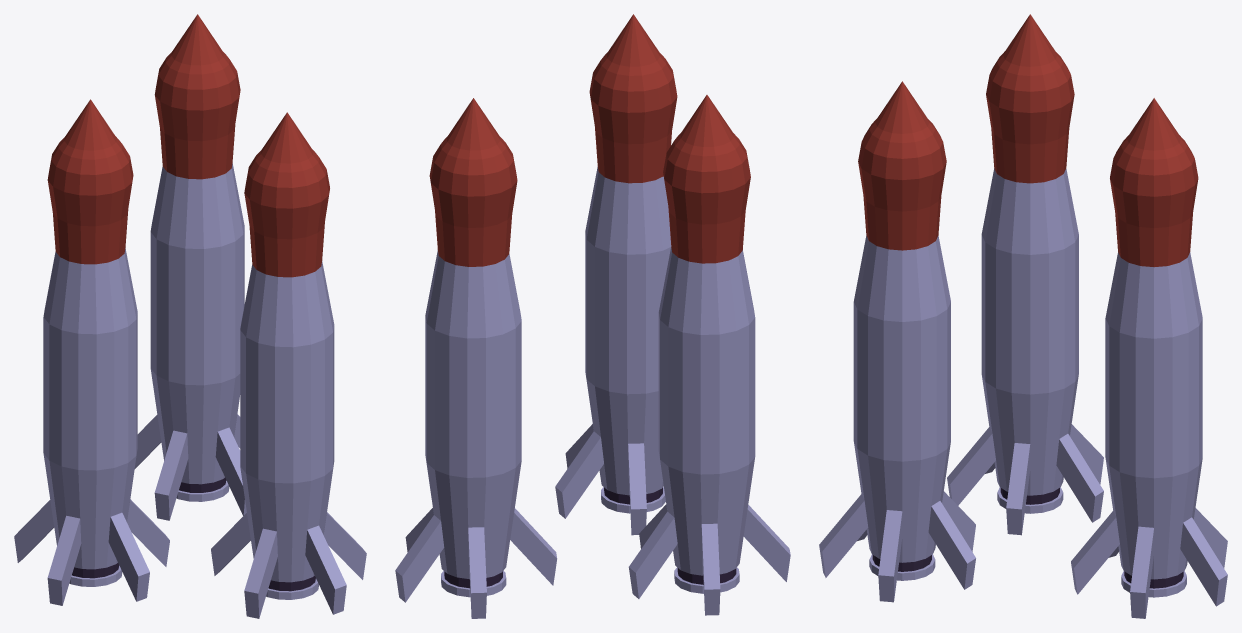
The model's file is rockets.fbx.
The picture shows the model from 3 angles, left to right: view 1: azimuth 30°, elevation 25°; view 2: azimuth 150°, elevation 25°; view 3: azimuth 270°, elevation 25°; orthographic projection. The views are drawn at different scales.
Visible parts, largest first — view 1: Cylinder; view 2: Cylinder; view 3: Cylinder.
Boxes of the visible parts, x1,y1,x2,y2 form: Cylinder: [14, 14, 366, 618]; Cylinder: [395, 14, 790, 618]; Cylinder: [819, 14, 1227, 618].
Bounding box in the file's own units: 115 × 175 × 133.
